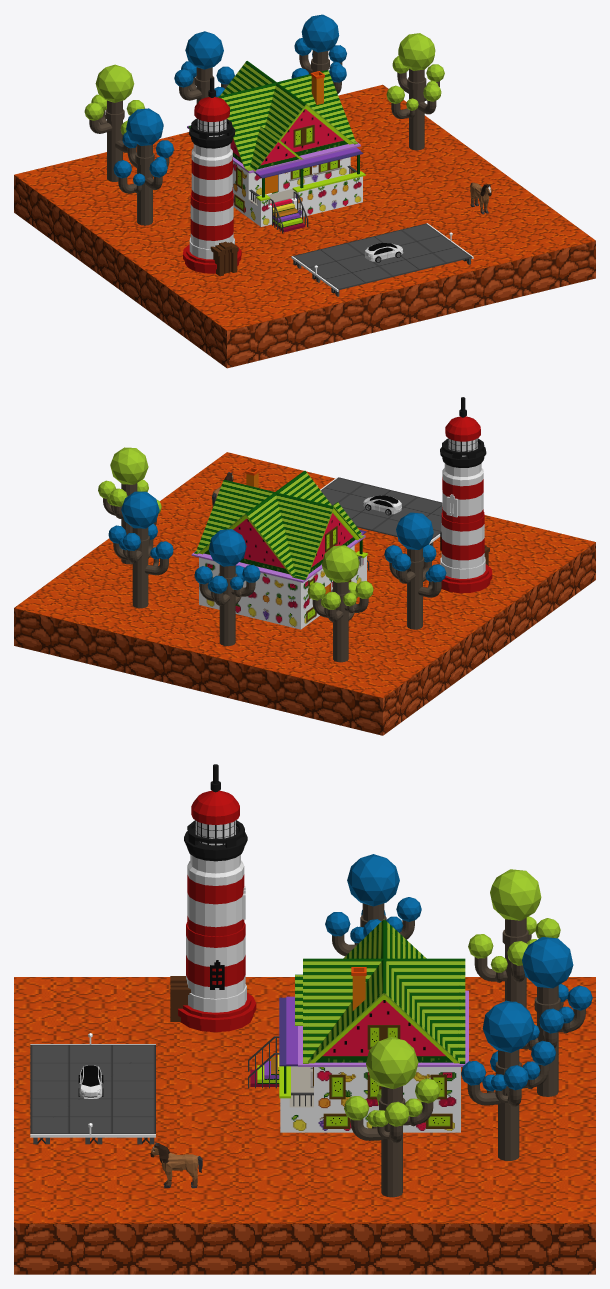
The picture shows the model from 3 angles, top to bottom: view 1: azimuth 30°, elevation 25°; view 2: azimuth 150°, elevation 25°; view 3: azimuth 270°, elevation 25°; orthographic projection. The views are drawn at different scales.
Visible parts, largest first — view 1: Cube.001, Cube.1063, OBJRANDOM_LIGHTHOUSE, VEHICLES_TESLA, ANIMAL_CABALLO; view 2: Cube.001, Cube.1063, OBJRANDOM_LIGHTHOUSE, VEHICLES_TESLA; view 3: Cube.001, Cube.1063, OBJRANDOM_LIGHTHOUSE, ANIMAL_CABALLO, VEHICLES_TESLA.
Boxes of the visible parts, left/top/right/bottom form: Cube.001: left=14, top=14, right=595, bottom=368; Cube.1063: left=187, top=61, right=365, bottom=233; OBJRANDOM_LIGHTHOUSE: left=183, top=77, right=241, bottom=276; VEHICLES_TESLA: left=364, top=243, right=403, bottom=262; ANIMAL_CABALLO: left=470, top=182, right=491, bottom=214; Cube.001: left=14, top=447, right=595, bottom=735; Cube.1063: left=191, top=467, right=369, bottom=629; OBJRANDOM_LIGHTHOUSE: left=440, top=397, right=492, bottom=593; VEHICLES_TESLA: left=363, top=495, right=401, bottom=515; Cube.001: left=14, top=854, right=595, bottom=1274; Cube.1063: left=248, top=919, right=468, bottom=1132; OBJRANDOM_LIGHTHOUSE: left=170, top=764, right=256, bottom=1032; ANIMAL_CABALLO: left=150, top=1142, right=202, bottom=1188; VEHICLES_TESLA: left=78, top=1065, right=103, bottom=1098.
Bounding box in the file's own units: 4000 × 2383 × 4000.
Materials: 36 (6 with a texture image).
